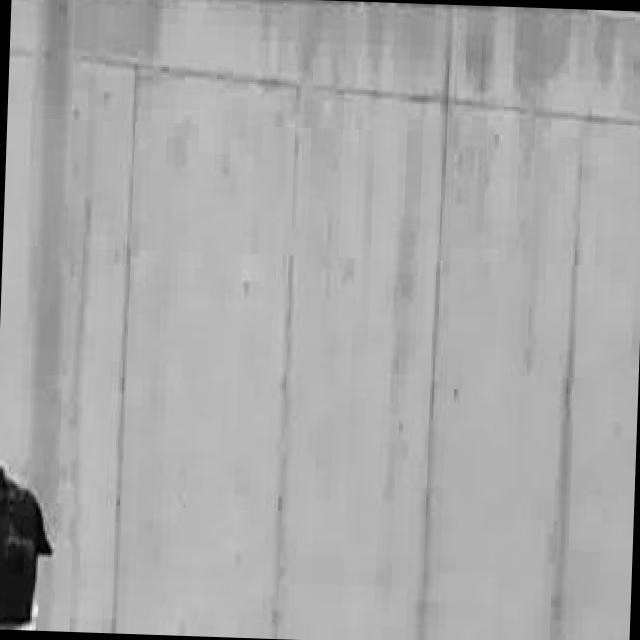Guns: (0, 580, 23, 629)
